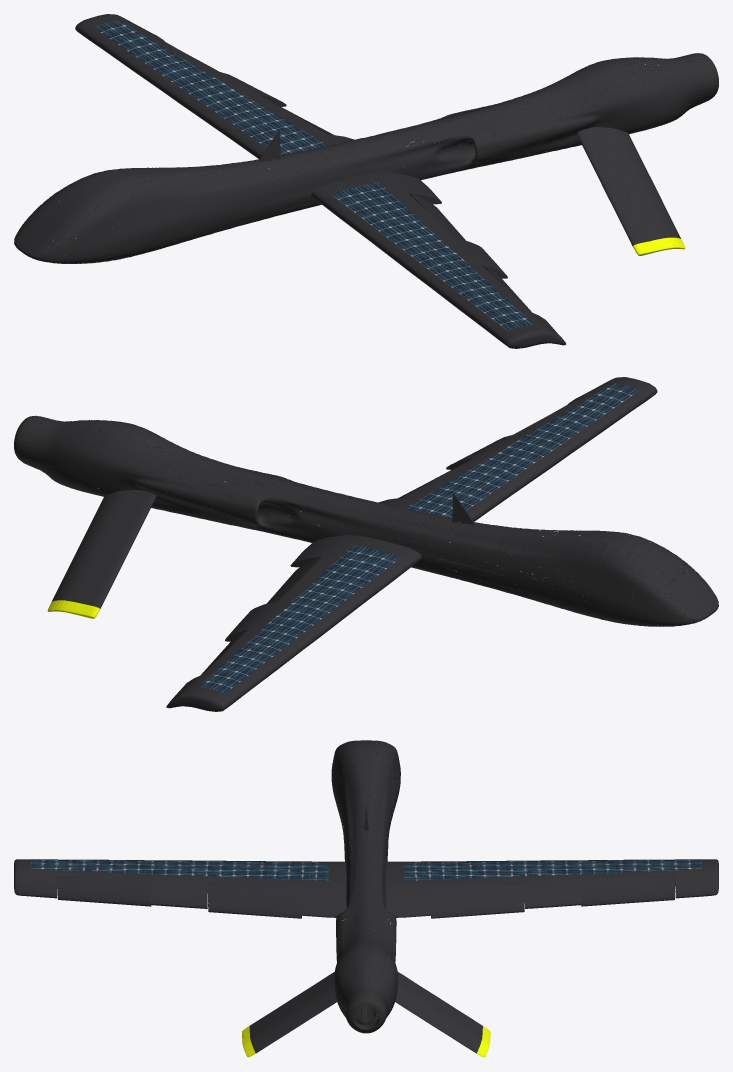
The model's file is drone-transformed.glb.
3 views of the same model, one above another, from view 1: azimuth 30°, elevation 25°; view 2: azimuth 150°, elevation 25°; view 3: azimuth 270°, elevation 25° (orthographic). The views are drawn at different scales.
Visible parts, largest first — view 1: Cube; view 2: Cube; view 3: Cube.
Boxes of the visible parts, <box> form: Cube: <box>14,14,718,348</box>; Cube: <box>14,377,718,711</box>; Cube: <box>14,740,718,1057</box>.
Bounding box in the file's own units: 2527 × 514 × 2774.
4 materials, 2 textured.
